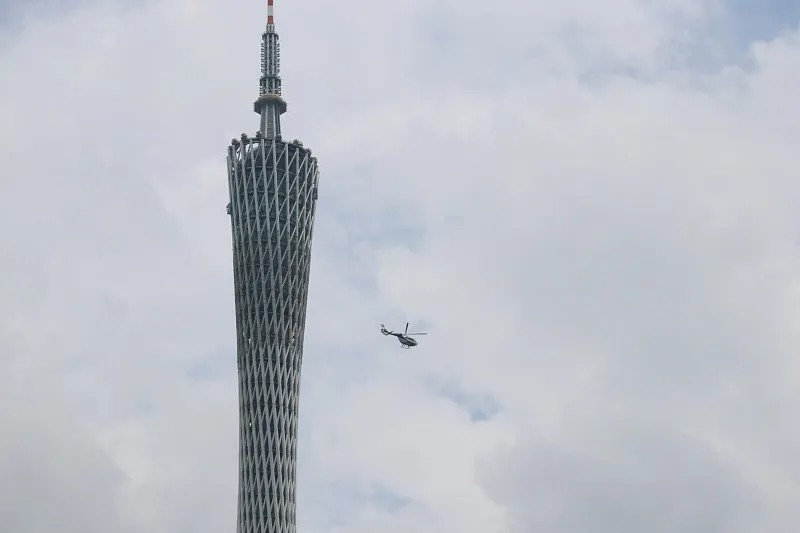Canton: (227, 1, 321, 533)
